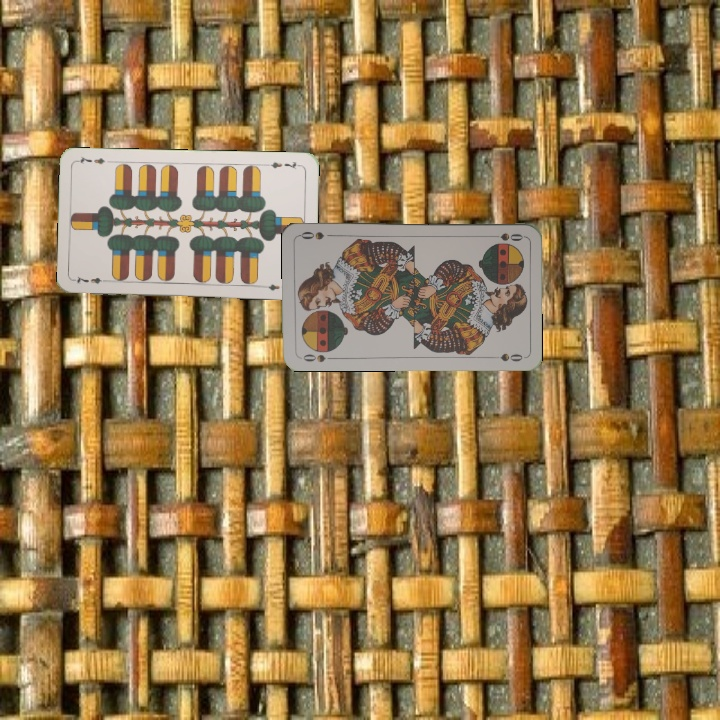E7: (262, 157, 303, 171), (71, 272, 112, 286)
SO: (485, 229, 525, 243), (299, 350, 337, 364)
